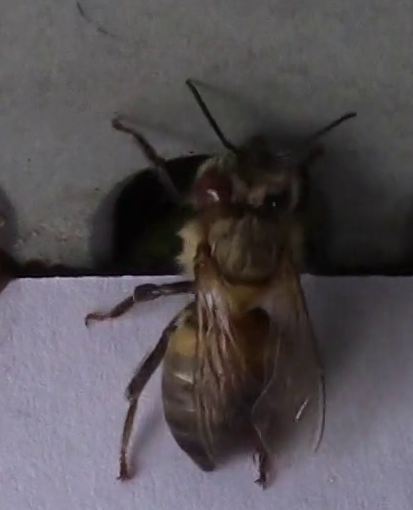Varroa destructor: (195, 166, 230, 206)
